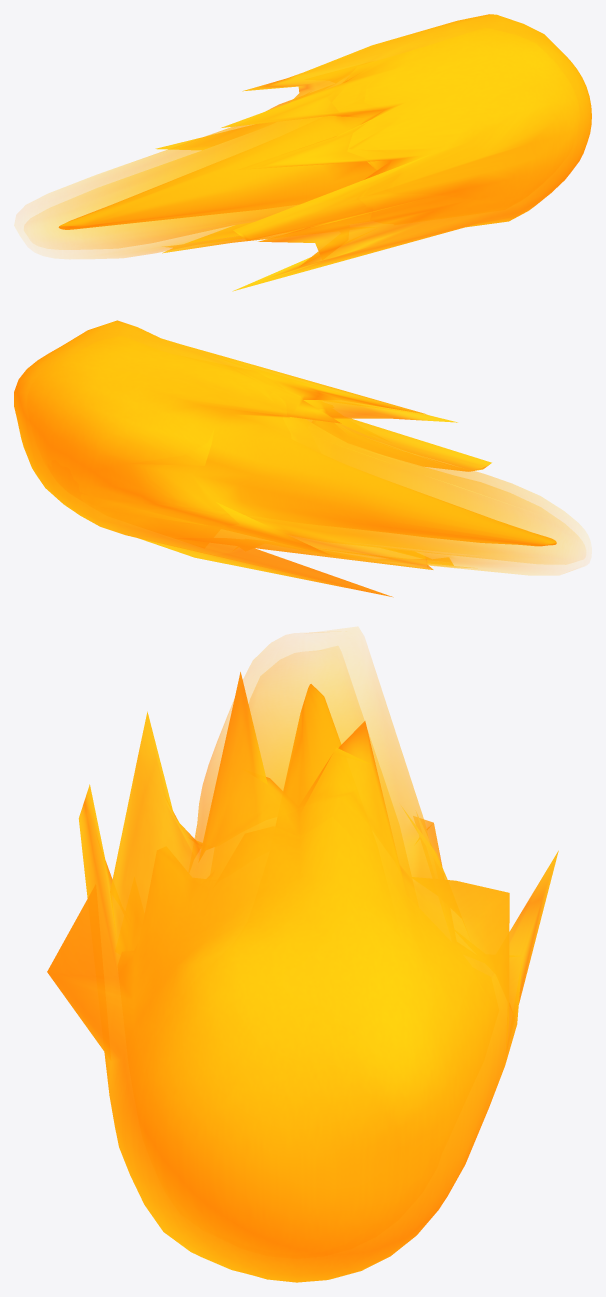
The model's file is Astreoid6-B14ugq4e.glb.
The picture shows the model from 3 angles, top to bottom: view 1: azimuth 30°, elevation 25°; view 2: azimuth 150°, elevation 25°; view 3: azimuth 270°, elevation 25°; orthographic projection. The views are drawn at different scales.
Parts seen in each view (by area): view 1: Sphere.001, Sphere; view 2: Sphere.001, Sphere; view 3: Sphere.001, Sphere.
Part boxes in pixels (x1,y1,x2,y2): Sphere.001: (21, 14, 591, 291); Sphere: (58, 116, 359, 229); Sphere.001: (14, 320, 585, 597); Sphere: (72, 428, 556, 546); Sphere.001: (47, 627, 558, 1282); Sphere: (283, 684, 341, 805).
Size of the model in its own units: 8.17 by 2.64 by 3.3.
Materials: 2 (1 with a texture image).
